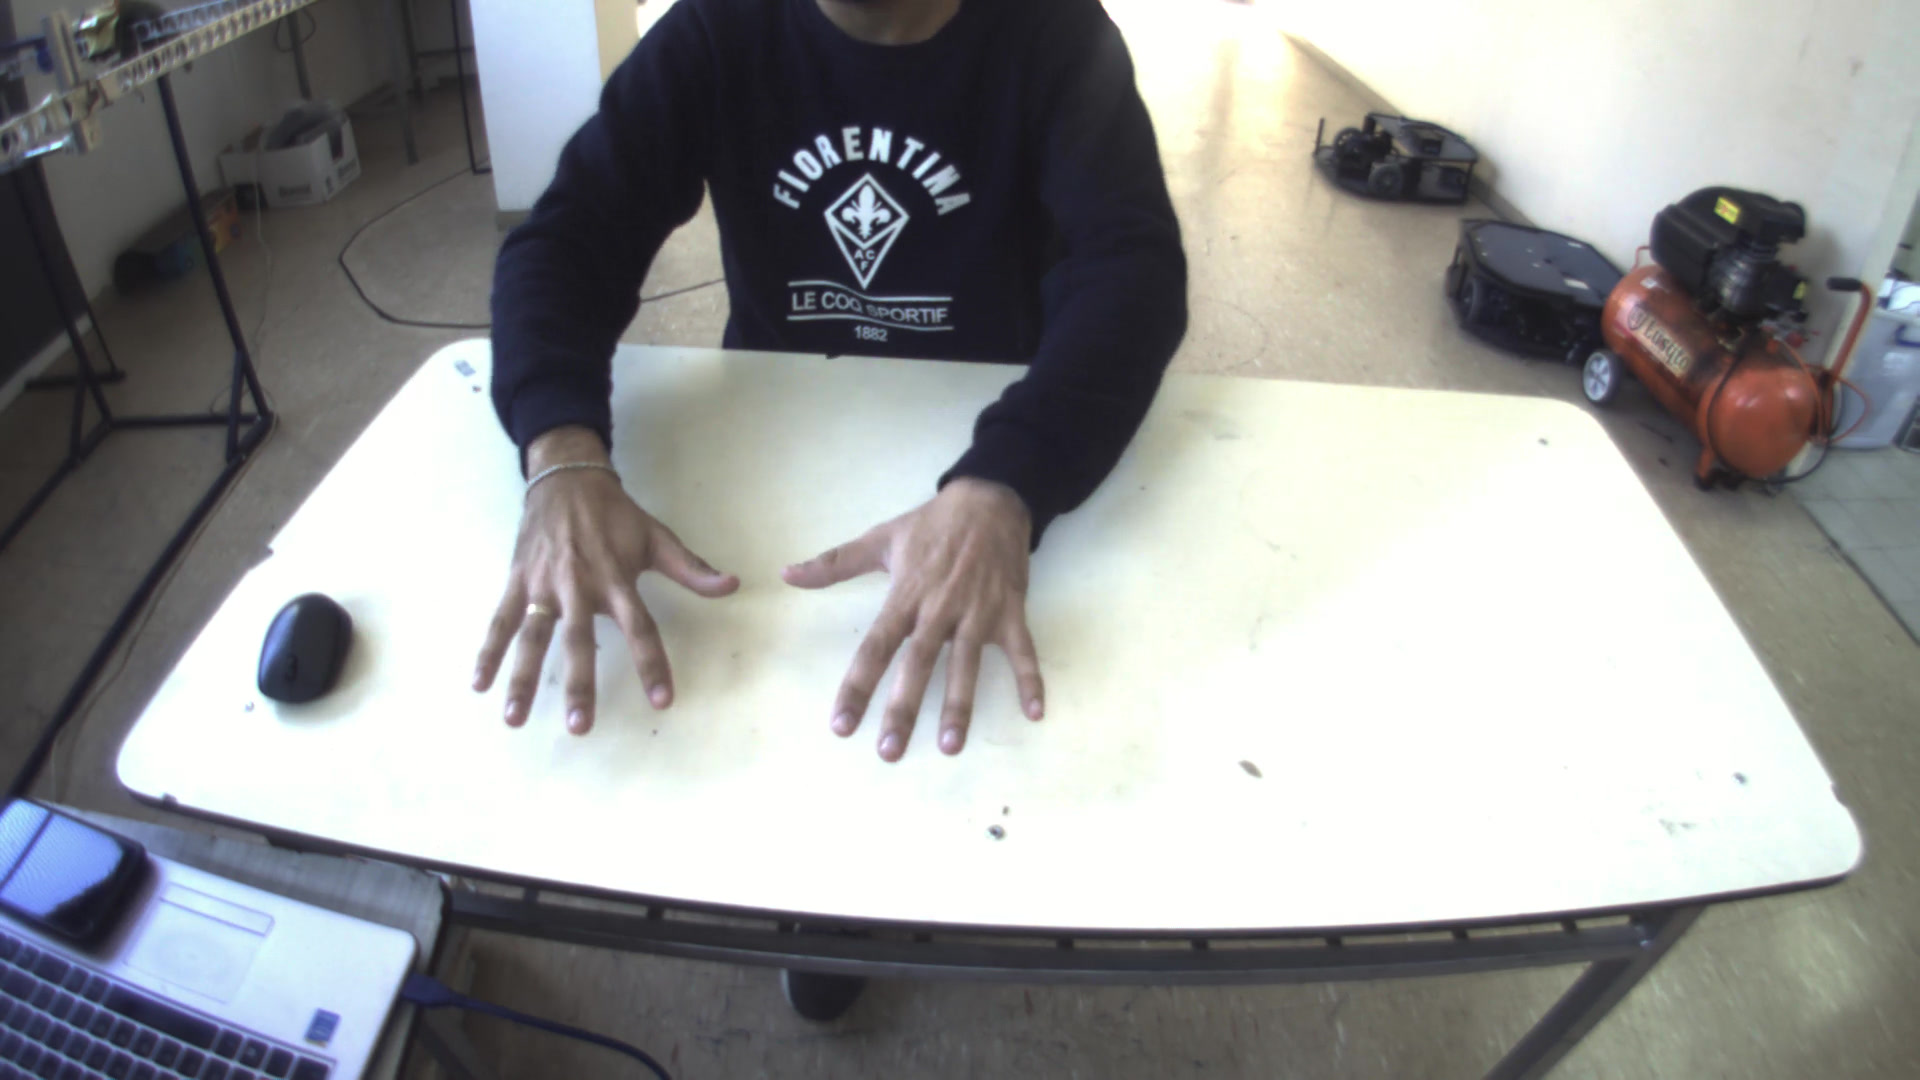hand: (775, 472, 1062, 767), (454, 450, 748, 733)
